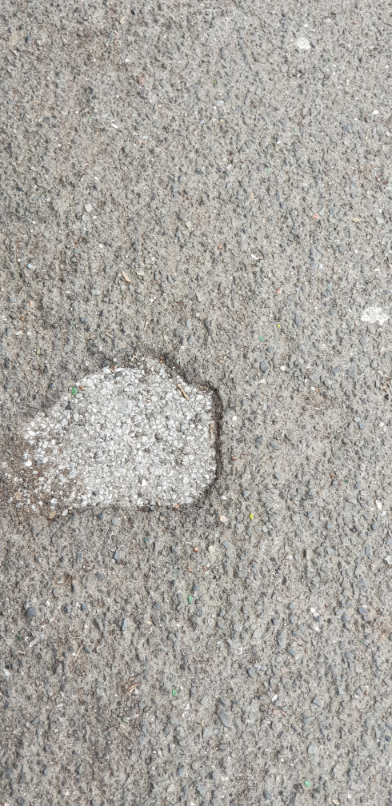pothole: (0, 339, 228, 518)
